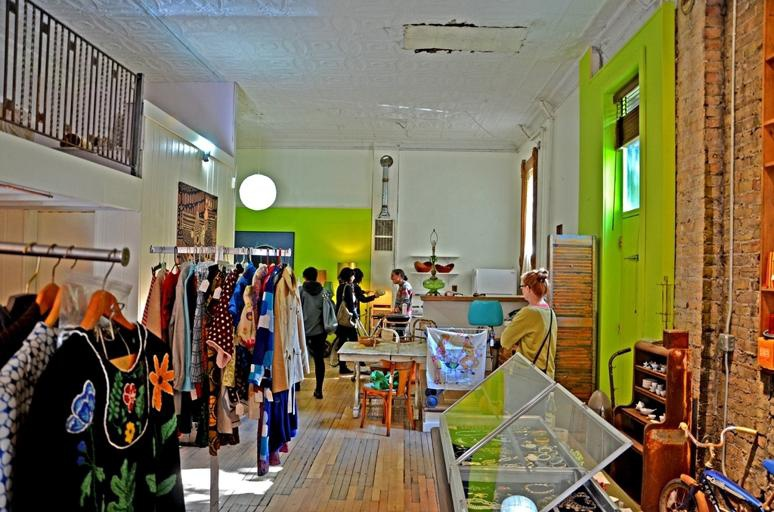non-vehicle: (657, 419, 773, 512), (327, 308, 400, 367)
